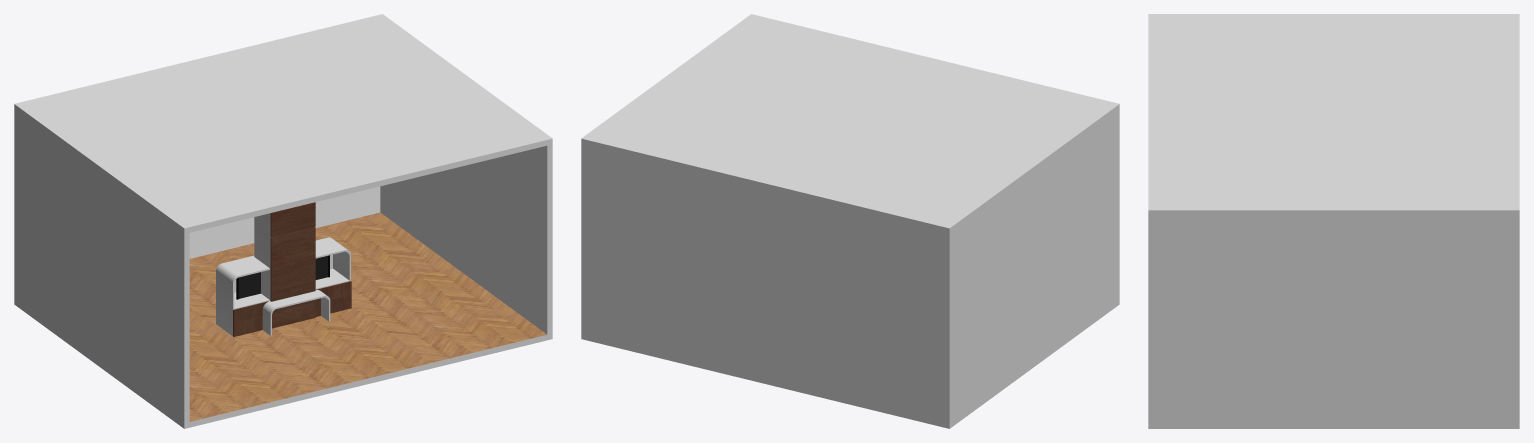
Rendered from furniture_configurator.glb.
3 renders of one model, left to right at view 1: azimuth 30°, elevation 25°; view 2: azimuth 150°, elevation 25°; view 3: azimuth 270°, elevation 25°, orthographic. The views are drawn at different scales.
Parts seen in each view (by area): view 1: habitacion, sku1b_frentes, sku2a_estructura, sku2b_frentes, sku1a_estructura, sku1c_frentes, sku3a_estructura, tv, sku2a_baldas; view 2: habitacion; view 3: habitacion.
Boxes of the visible parts, x1,y1,x2,y2 form: habitacion: (14,14,552,428); sku1b_frentes: (270,202,315,321); sku2a_estructura: (216,237,350,336); sku2b_frentes: (233,281,351,336); sku1a_estructura: (254,213,270,300); sku1c_frentes: (270,258,315,328); sku3a_estructura: (262,290,330,335); tv: (236,255,329,299); sku2a_baldas: (234,268,349,308); habitacion: (581,14,1119,428); habitacion: (1148,14,1519,428).
Size of the model in its own units: 5 by 3.02 by 4.
10 materials, 2 textured.
